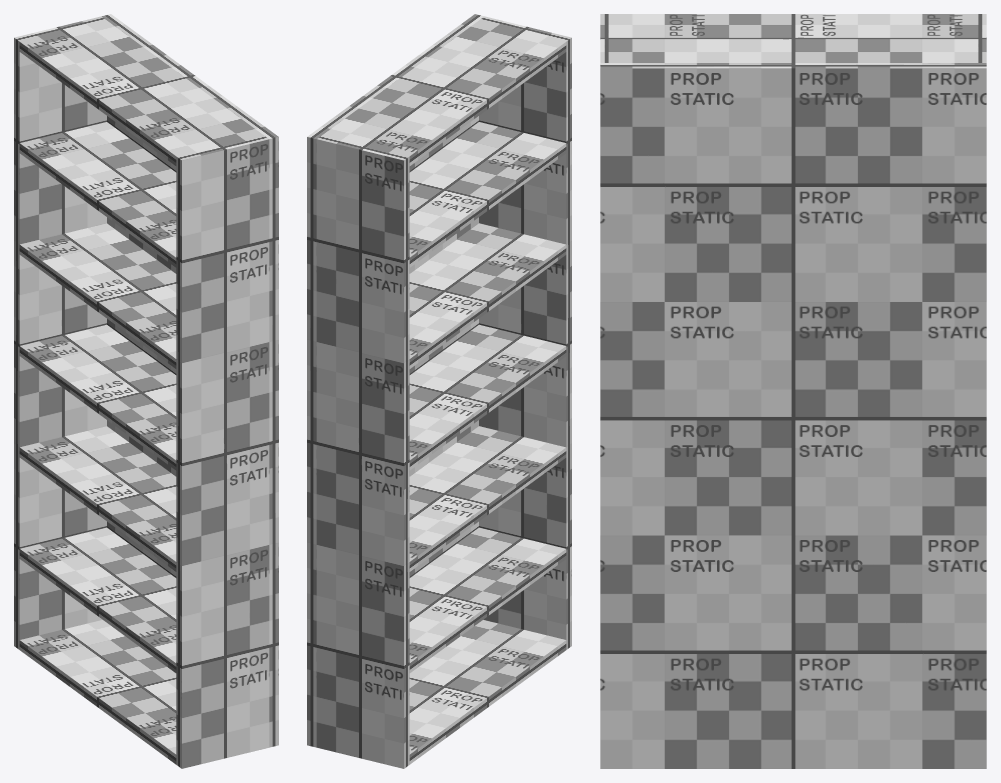
Rendered from JMB_Shelf.fbx.
3 views of the same model, side by side, from view 1: azimuth 30°, elevation 25°; view 2: azimuth 150°, elevation 25°; view 3: azimuth 270°, elevation 25° (orthographic). The views are drawn at different scales.
Parts seen in each view (by area): view 1: Shelf_Side__1_, Shelf_Side, Shelf_Shelf, Shelf_Shelf__3_, Shelf_Shelf__2_, Shelf_Shelf__4_, Shelf_Shelf__5_, Shelf_Shelf__1_, Shelf_Shelf__6_, Shelf_Back; view 2: Shelf_Side, Shelf_Side__1_, Shelf_Shelf, Shelf_Shelf__3_, Shelf_Shelf__2_, Shelf_Shelf__4_, Shelf_Shelf__5_, Shelf_Shelf__1_, Shelf_Shelf__6_, Shelf_Back; view 3: Shelf_Back, Shelf_Shelf.
Part boxes in pixels (<box>): Shelf_Side__1_: <box>176,135,269,768</box>; Shelf_Side: <box>14,16,106,649</box>; Shelf_Shelf: <box>19,20,262,165</box>; Shelf_Shelf__3_: <box>19,324,176,470</box>; Shelf_Shelf__2_: <box>19,223,176,368</box>; Shelf_Shelf__4_: <box>19,426,176,571</box>; Shelf_Shelf__5_: <box>19,527,176,672</box>; Shelf_Shelf__1_: <box>19,122,176,267</box>; Shelf_Shelf__6_: <box>19,620,176,764</box>; Shelf_Back: <box>102,14,278,747</box>; Shelf_Side: <box>316,135,409,768</box>; Shelf_Side__1_: <box>479,16,571,649</box>; Shelf_Shelf: <box>323,20,566,165</box>; Shelf_Shelf__3_: <box>409,324,566,470</box>; Shelf_Shelf__2_: <box>409,223,566,368</box>; Shelf_Shelf__4_: <box>409,426,566,571</box>; Shelf_Shelf__5_: <box>409,527,566,672</box>; Shelf_Shelf__1_: <box>409,122,566,267</box>; Shelf_Shelf__6_: <box>409,620,566,764</box>; Shelf_Back: <box>307,14,483,747</box>; Shelf_Back: <box>600,63,986,768</box>; Shelf_Shelf: <box>613,14,973,62</box>.
Bounding box in the file's own units: 50 × 300 × 150.
